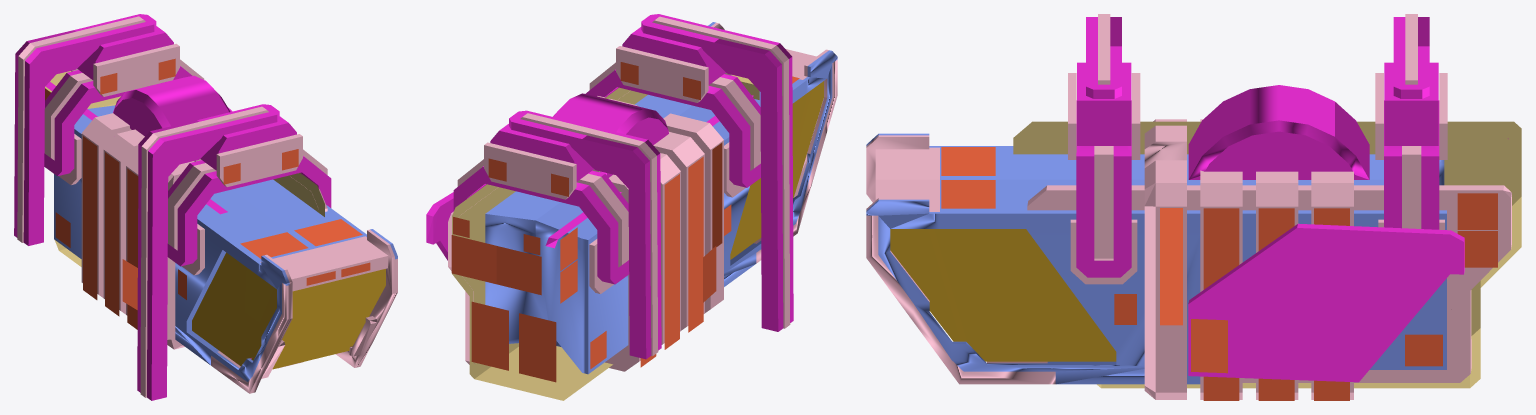
File: crane_tower_delta_cockpit_a_lod2.glb
The picture shows the model from 3 angles, left to right: view 1: azimuth 30°, elevation 25°; view 2: azimuth 150°, elevation 25°; view 3: azimuth 270°, elevation 25°; orthographic projection. The views are drawn at different scales.
Bounding box in the file's own units: 4.38 × 5.6 × 10.32.
